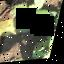Purslane: (0, 0, 64, 63)
